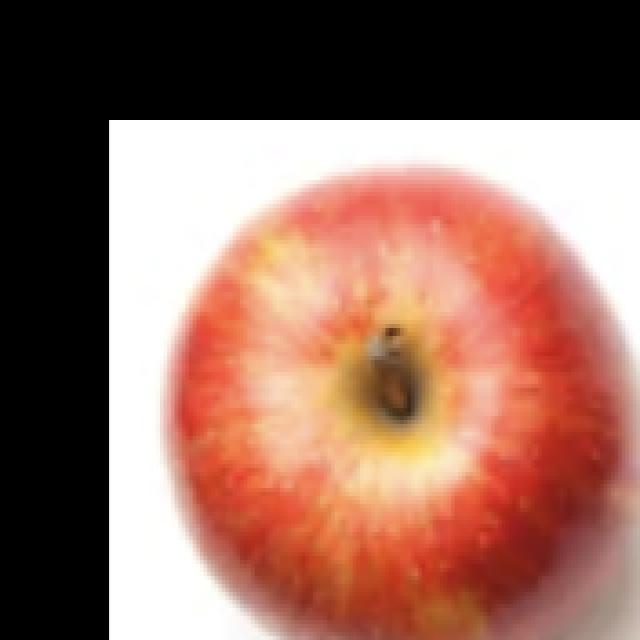Fresh Apple: (196, 183, 626, 640)
